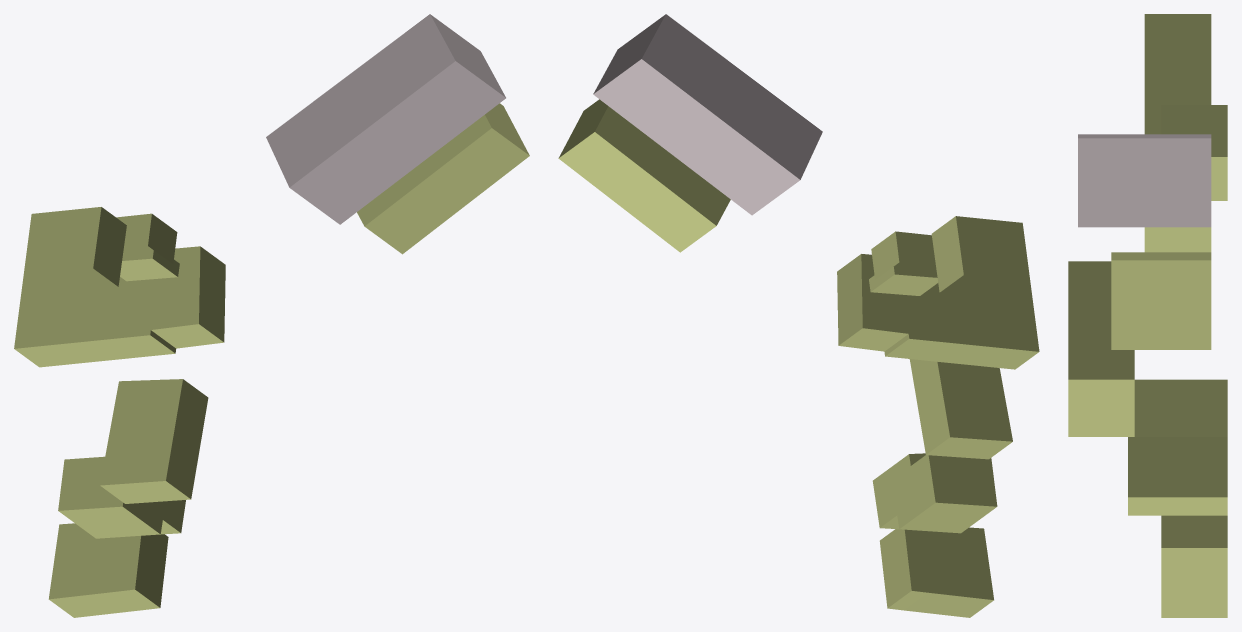
The picture shows the model from 3 angles, left to right: view 1: azimuth 30°, elevation 25°; view 2: azimuth 150°, elevation 25°; view 3: azimuth 270°, elevation 25°; orthographic projection. The views are drawn at different scales.
Parts seen in each view (by area): view 1: 0_0_1_2_0_0_0_2; view 2: 0_0_1_2_0_0_0_2; view 3: 0_0_1_2_0_0_0_2.
Boxes of the visible parts, box(x1,y1,x2,y2) form: 0_0_1_2_0_0_0_2: box(14, 14, 529, 617); 0_0_1_2_0_0_0_2: box(558, 14, 1039, 617); 0_0_1_2_0_0_0_2: box(1068, 14, 1227, 617).
Size of the model in its own units: 65.25 by 66.51 by 14.4.
